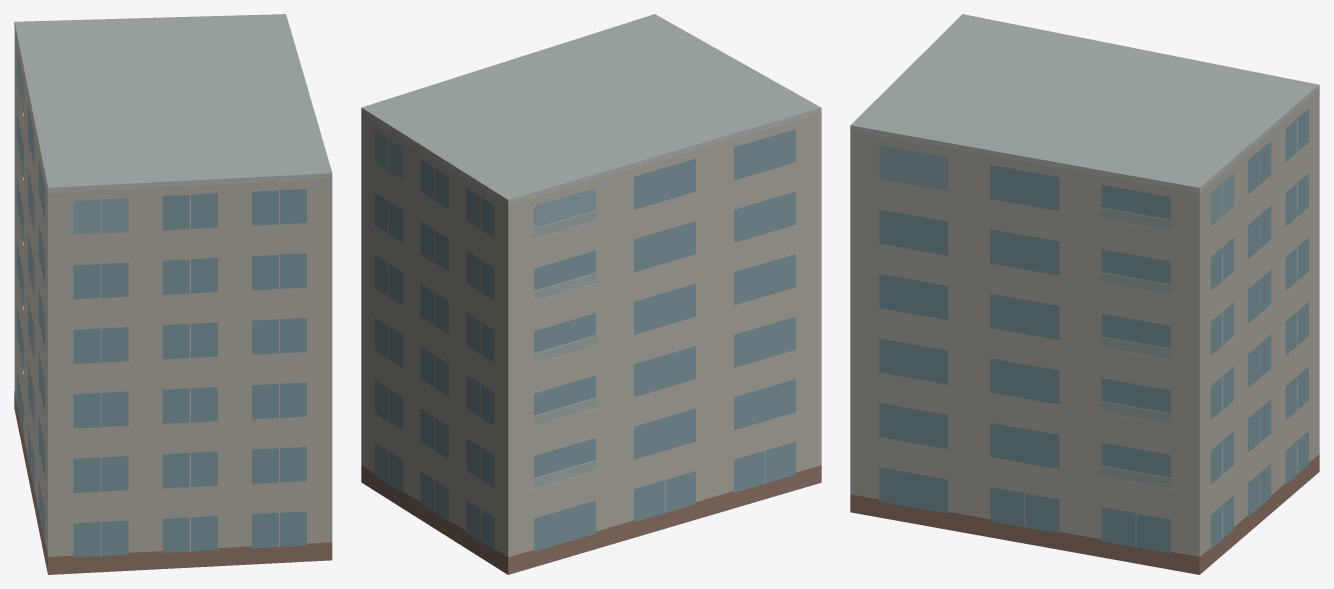
File: survey-upis-32669687.glb
The picture shows the model from 3 angles, left to right: view 1: azimuth 30°, elevation 25°; view 2: azimuth 150°, elevation 25°; view 3: azimuth 270°, elevation 25°; orthographic projection. The views are drawn at different scales.
Visible parts, largest first — view 1: survey-upis-32669687.tmp; view 2: survey-upis-32669687.tmp; view 3: survey-upis-32669687.tmp.
Part boxes in pixels (box(x1,y1,x2,y2)): survey-upis-32669687.tmp: box(14, 14, 332, 574); survey-upis-32669687.tmp: box(361, 14, 821, 574); survey-upis-32669687.tmp: box(850, 14, 1319, 574).
Size of the model in its own units: 17.17 by 17.8 by 19.57.
